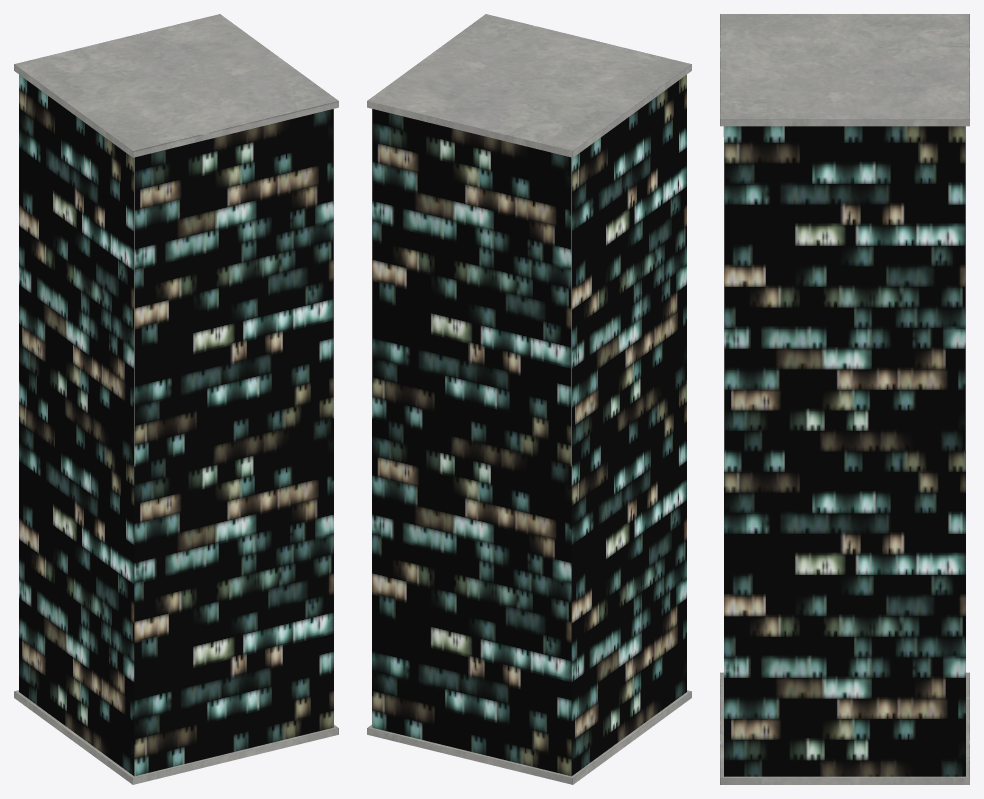
The model's file is building_02.1.glb.
The picture shows the model from 3 angles, left to right: view 1: azimuth 30°, elevation 25°; view 2: azimuth 150°, elevation 25°; view 3: azimuth 270°, elevation 25°; orthographic projection. The views are drawn at different scales.
Parts seen in each view (by area): view 1: building_02.1; view 2: building_02.1; view 3: building_02.1.
Part boxes in pixels (x1,y1,x2,y2): building_02.1: (14, 14, 338, 784); building_02.1: (367, 14, 691, 784); building_02.1: (720, 14, 969, 784).
Bounding box in the file's own units: 33 × 97 × 33.
Materials: 1 (1 with a texture image).
